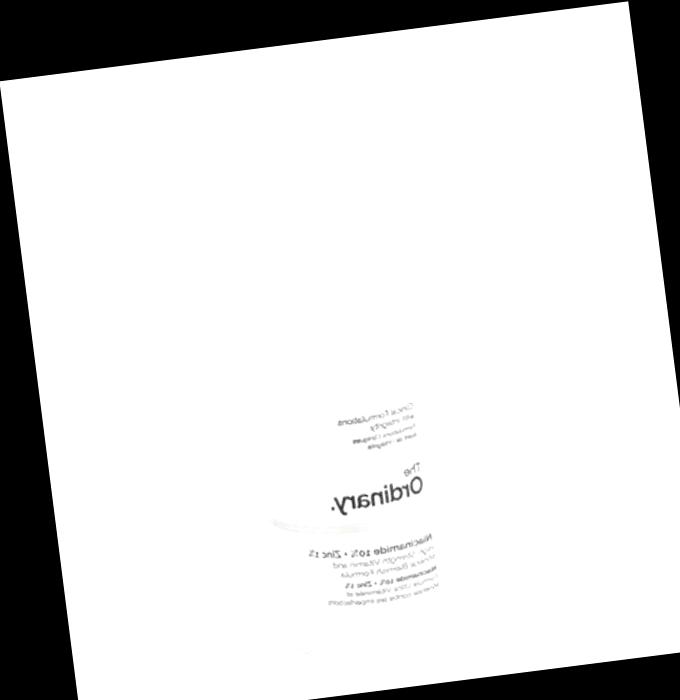cosmetic: (213, 84, 465, 666)
